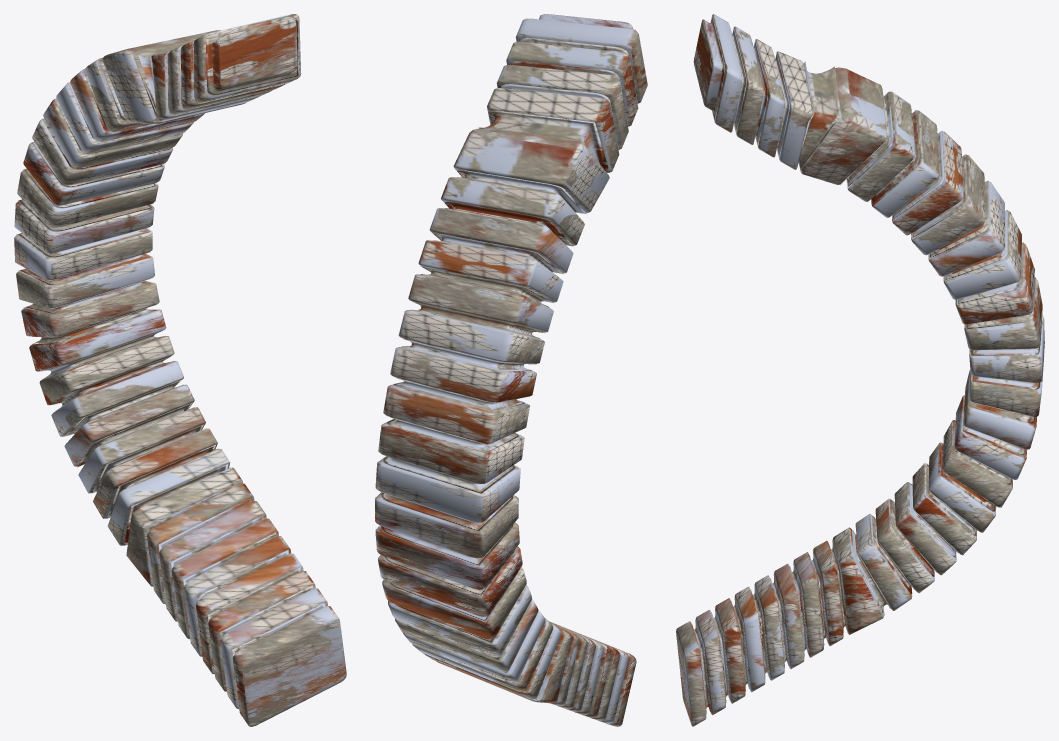
File: pipe.glb
3 renders of one model, left to right at view 1: azimuth 30°, elevation 25°; view 2: azimuth 150°, elevation 25°; view 3: azimuth 270°, elevation 25°, orthographic. The views are drawn at different scales.
Parts seen in each view (by area): view 1: Cube.001; view 2: Cube.001; view 3: Cube.001.
Boxes of the visible parts, x1,y1,x2,y2 form: Cube.001: [14, 14, 346, 726]; Cube.001: [375, 14, 647, 726]; Cube.001: [676, 14, 1044, 726].
Bounding box in the file's own units: 0.7423 × 3.1 × 1.54.
Materials: 1 (1 with a texture image).
